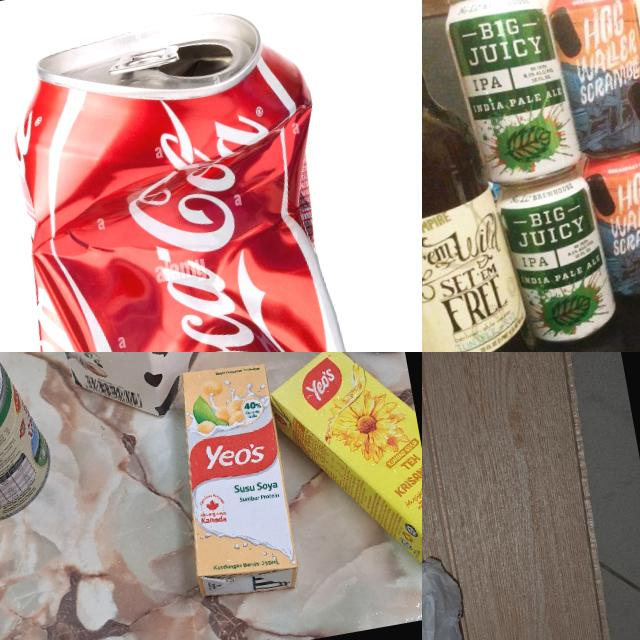aba de lata: (103, 40, 182, 75)
caixinha: (265, 352, 422, 594), (163, 357, 306, 606)
garrafa de vidro: (422, 0, 537, 352)
lata: (0, 0, 380, 352), (440, 0, 583, 194), (544, 0, 640, 159), (0, 352, 60, 531)
